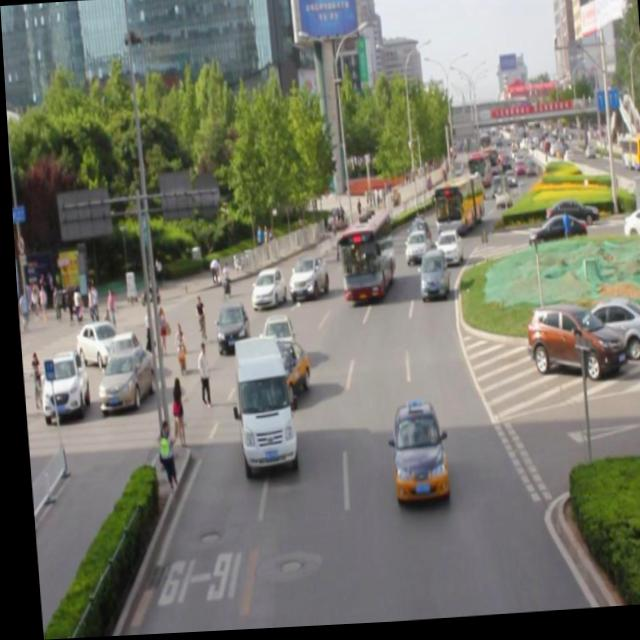car: (383, 404, 441, 508), (252, 340, 305, 406), (254, 314, 290, 374), (283, 256, 325, 304), (210, 304, 246, 353), (244, 268, 283, 313), (413, 251, 445, 305), (399, 230, 425, 271), (429, 231, 457, 268)
truck: (227, 336, 289, 472)
van: (332, 212, 390, 302)
